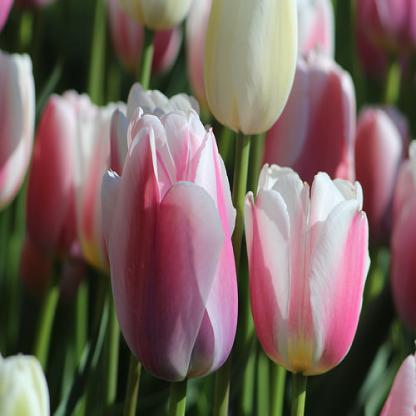TULIP: (99, 50, 377, 392)
